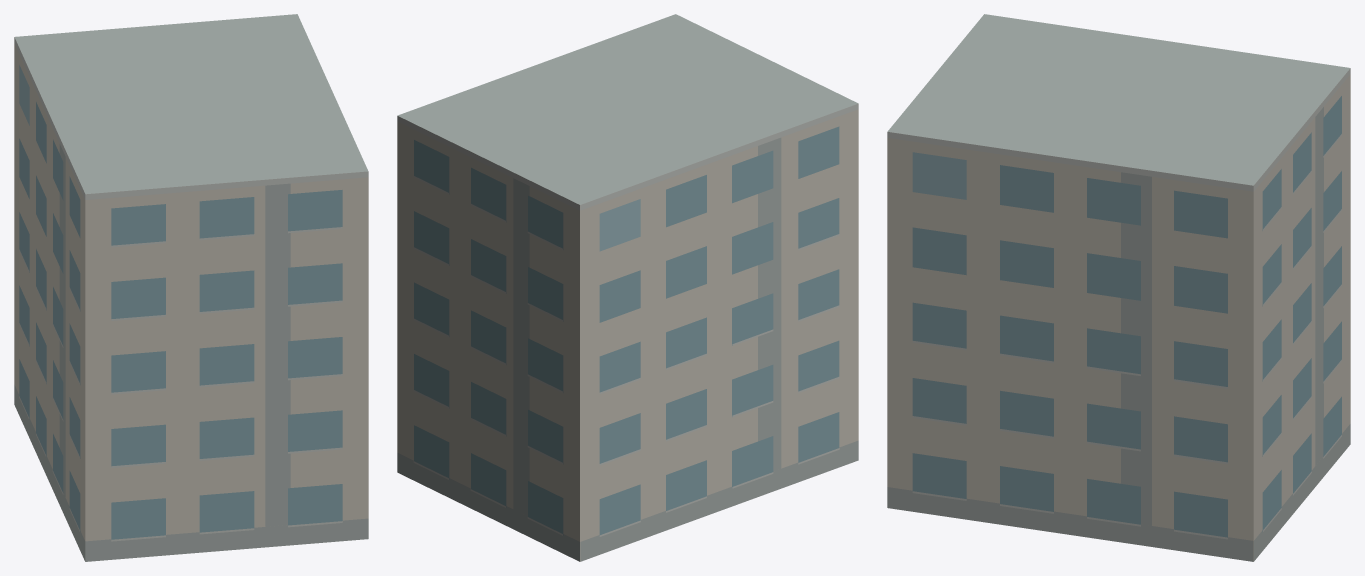
Rendered from residential-61703772-2257-40fd-9511-cbdc8ce2bc7f.glb.
3 views of the same model, side by side, from view 1: azimuth 30°, elevation 25°; view 2: azimuth 150°, elevation 25°; view 3: azimuth 270°, elevation 25° (orthographic). The views are drawn at different scales.
Parts seen in each view (by area): view 1: residential-61703772-2257-40fd-9511-cbdc8ce2bc7f.tmp; view 2: residential-61703772-2257-40fd-9511-cbdc8ce2bc7f.tmp; view 3: residential-61703772-2257-40fd-9511-cbdc8ce2bc7f.tmp.
Boxes of the visible parts, x1,y1,x2,y2 form: residential-61703772-2257-40fd-9511-cbdc8ce2bc7f.tmp: [14, 14, 368, 561]; residential-61703772-2257-40fd-9511-cbdc8ce2bc7f.tmp: [397, 14, 858, 561]; residential-61703772-2257-40fd-9511-cbdc8ce2bc7f.tmp: [887, 14, 1350, 561].
Size of the model in its own units: 14.94 by 15.25 by 17.03.
